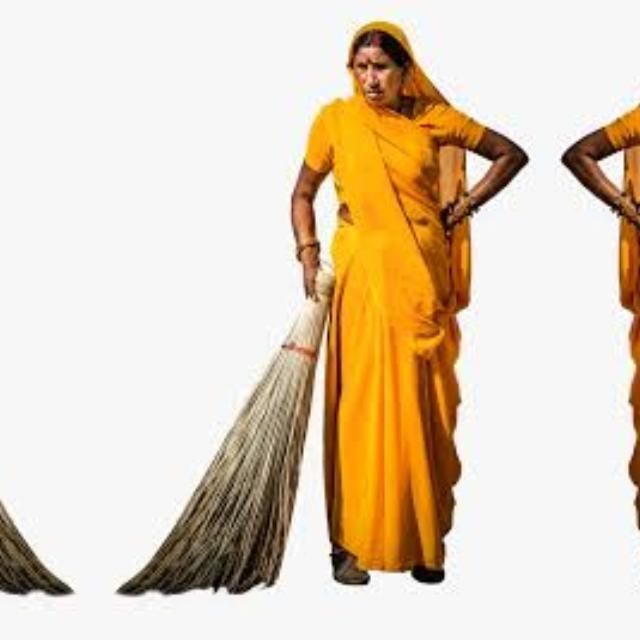person: (241, 0, 541, 608), (548, 0, 640, 608)
